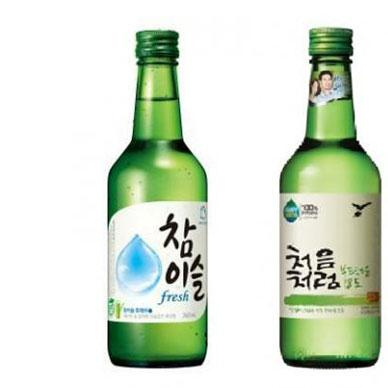soju: (276, 24, 384, 372), (102, 23, 210, 369)
